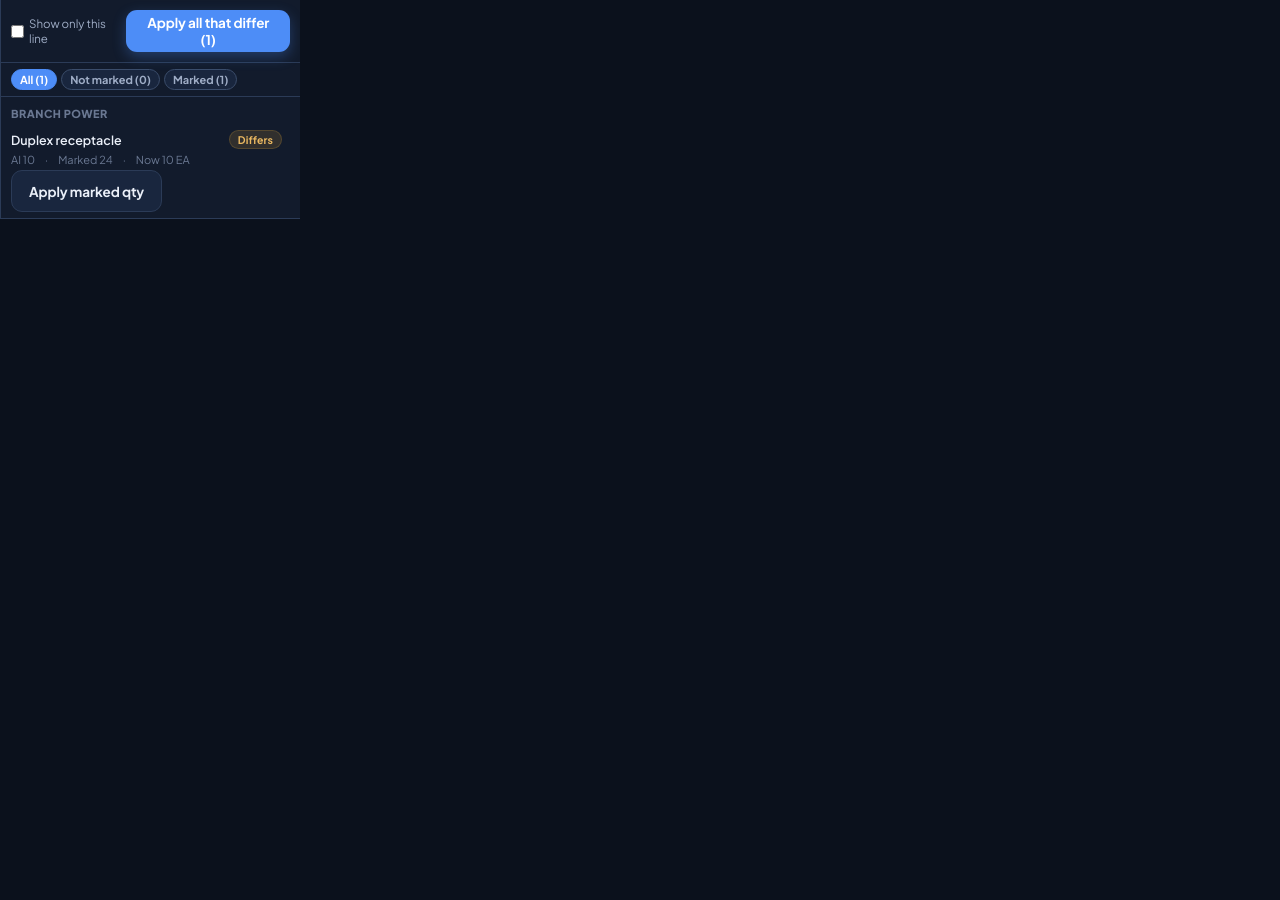
Scenario: ItemsPanel — apply flow › "Apply all that differ" opens a confirm dialog listing each change old -> new
This screenshot has width=1280, height=900.
Click the button "Apply all that differ (1)". click: (208, 31)
box: [126, 10, 290, 52]
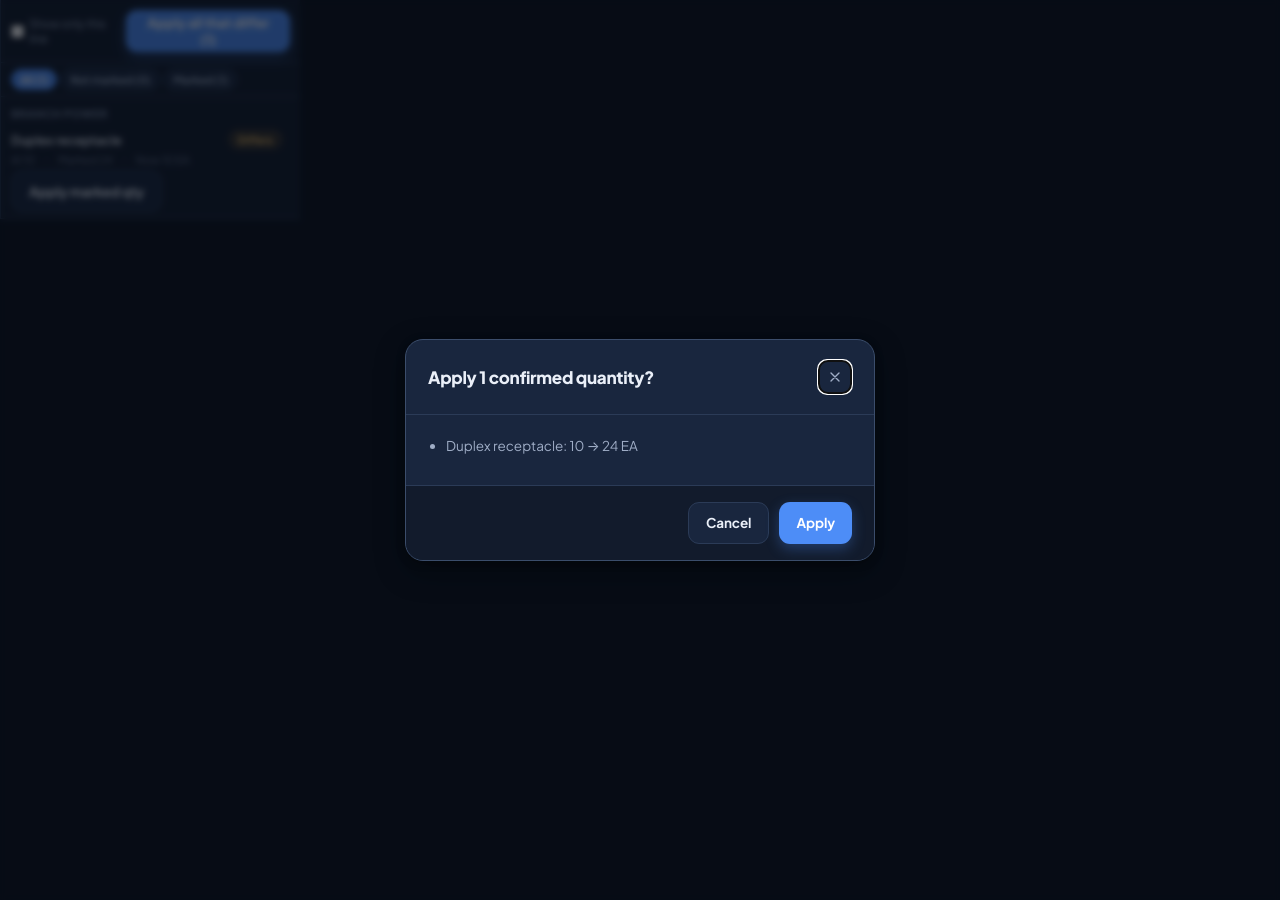
Expected: the list item "Duplex receptacle: 10 → 24 EA" is shown, [446, 437, 638, 454]
